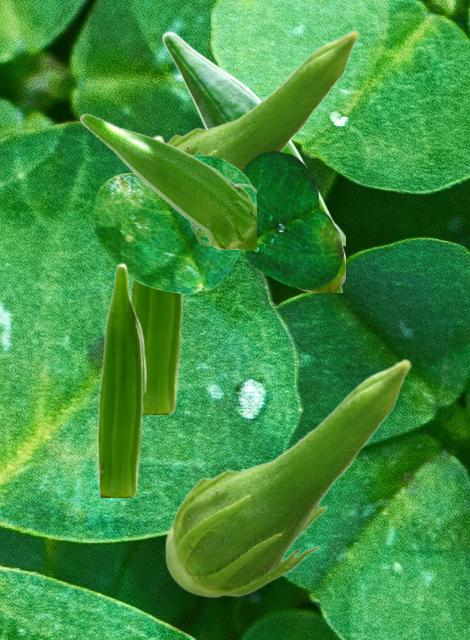okra: (164, 358, 411, 597), (161, 31, 344, 291), (167, 29, 359, 169), (79, 113, 255, 248), (130, 134, 185, 413), (97, 262, 146, 496)
